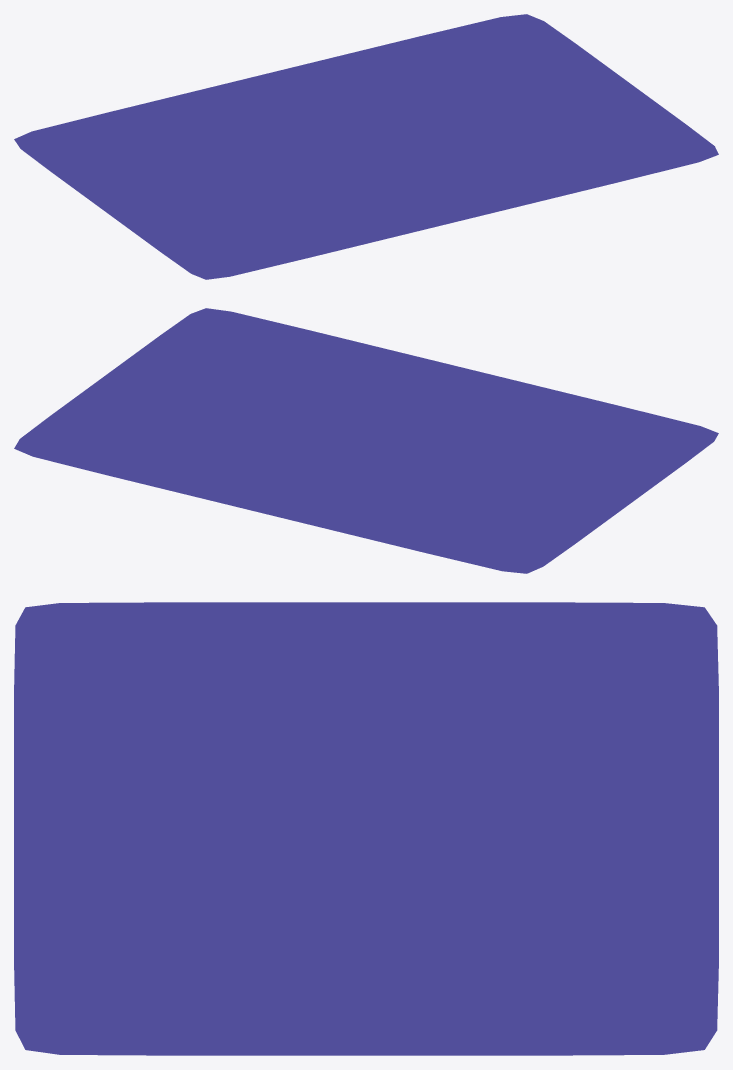
Rendered from japanese_rug.fbx.
The picture shows the model from 3 angles, top to bottom: view 1: azimuth 30°, elevation 25°; view 2: azimuth 150°, elevation 25°; view 3: azimuth 270°, elevation 25°; orthographic projection. The views are drawn at different scales.
Visible parts, largest first — view 1: Plane.005; view 2: Plane.005; view 3: Plane.005.
Part boxes in pixels (x1,y1,x2,y2): Plane.005: (14, 14, 718, 279); Plane.005: (14, 308, 718, 573); Plane.005: (14, 602, 718, 1055).
Bounding box in the file's own units: 92.49 × 9.91e-06 × 60.8.
